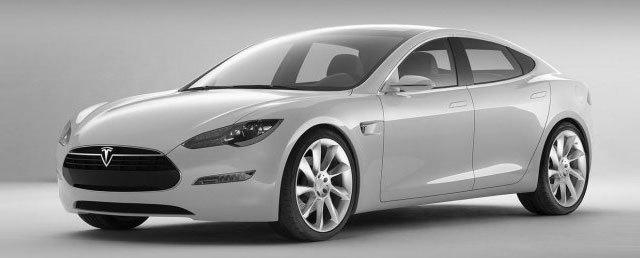car: (46, 1, 614, 255)
